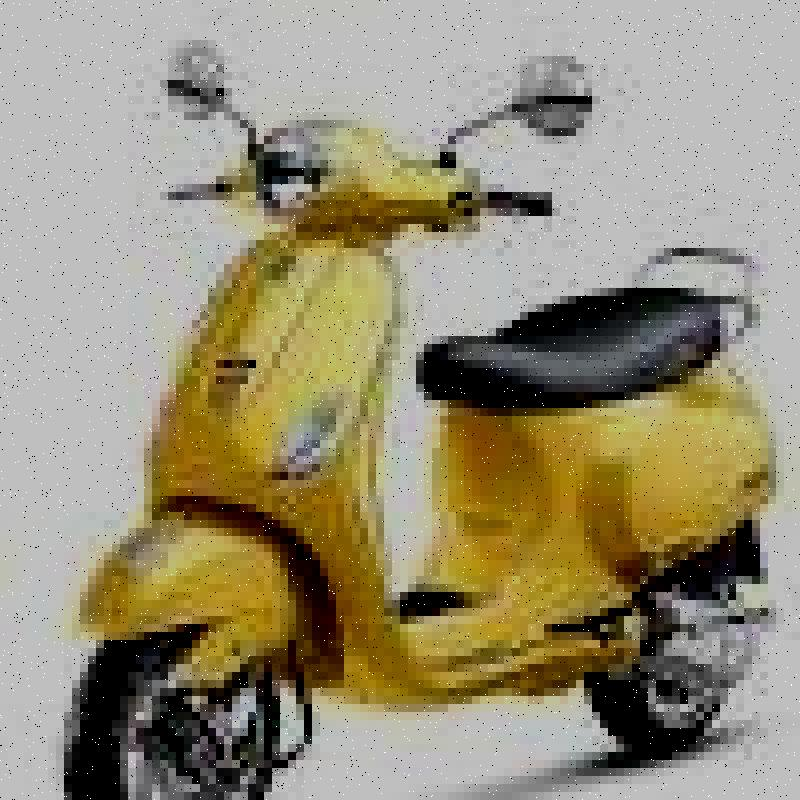bike: (75, 15, 775, 800)
